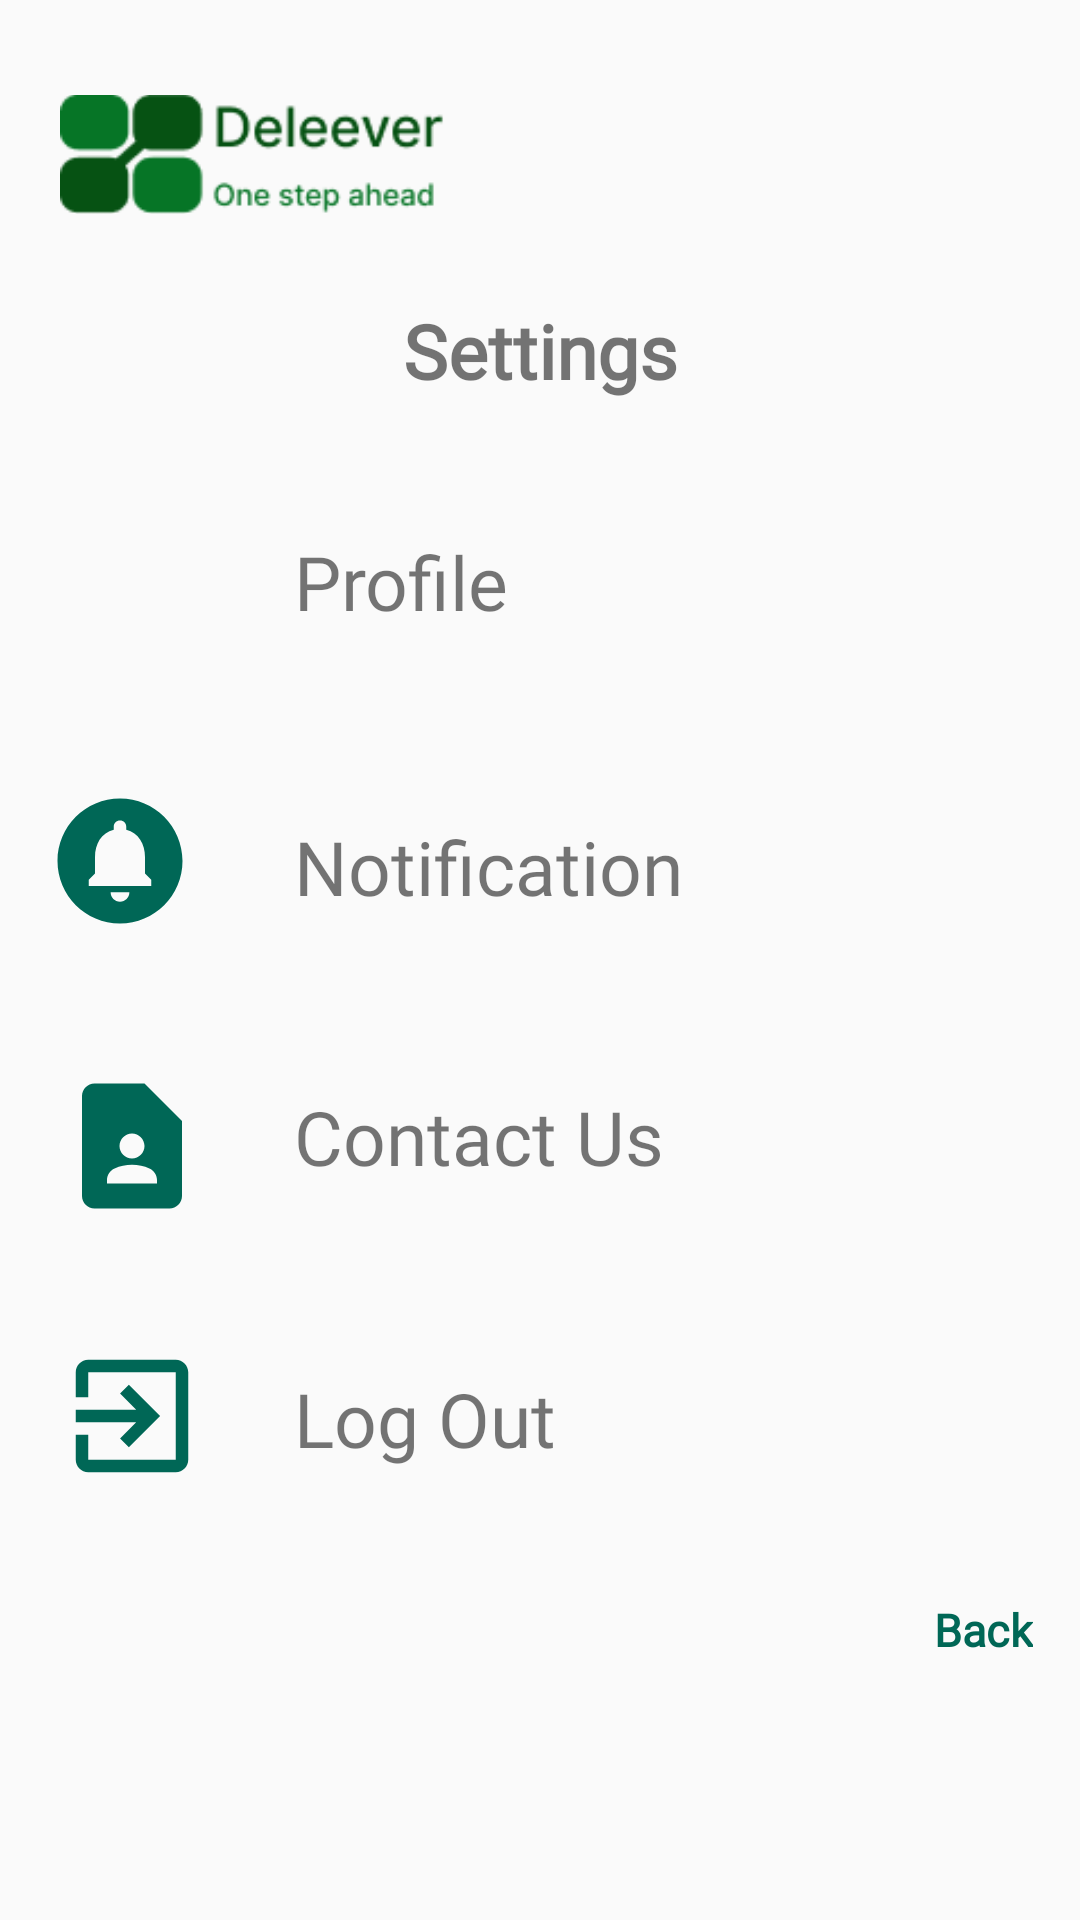

Locate icon controls on the screen. Image size 1080 × 1920, boxes as bbox=[x1, y1, x2, y2].
contact page: bbox=[82, 1083, 182, 1209]
exit to app: bbox=[75, 1359, 189, 1473]
